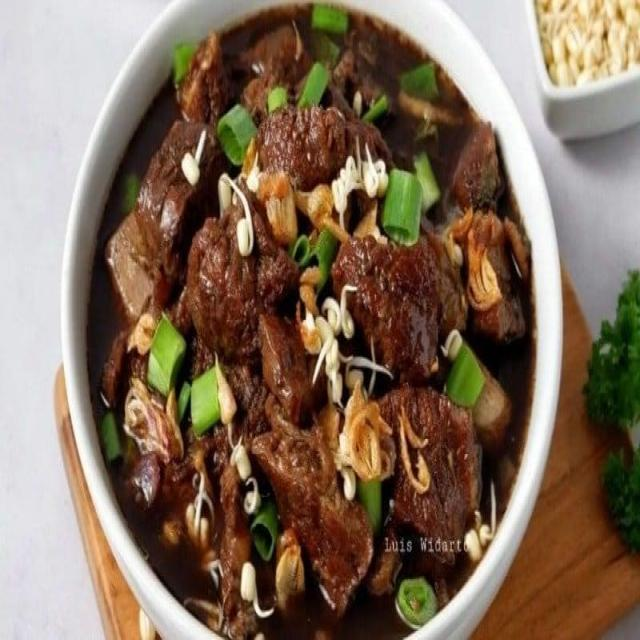Rawon: (53, 14, 519, 590)
